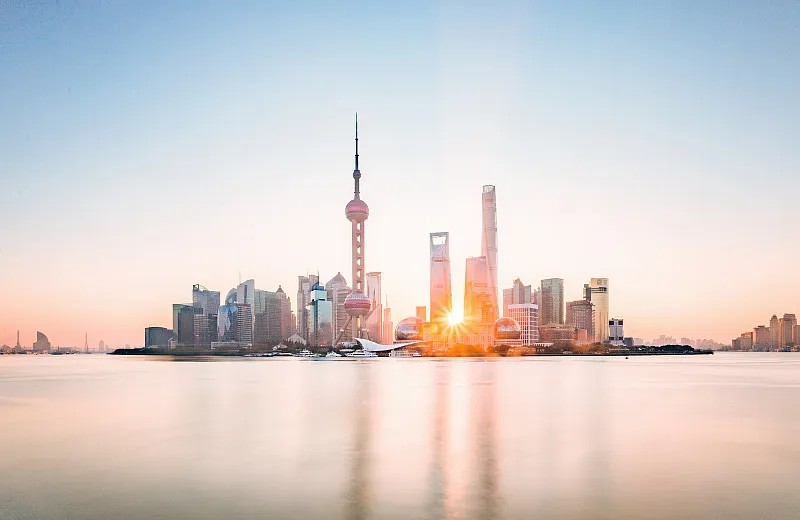Oriental: (334, 113, 372, 346)
